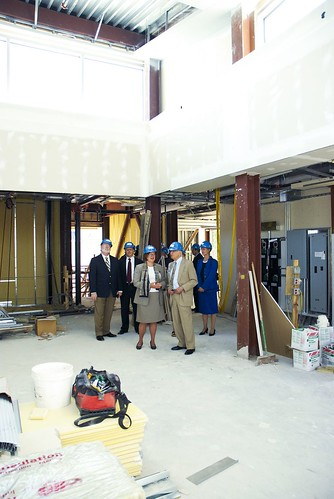person hardhat: (143, 244, 160, 264), (167, 242, 184, 261), (100, 237, 113, 256), (124, 240, 137, 256), (201, 240, 211, 257), (190, 243, 202, 256)
